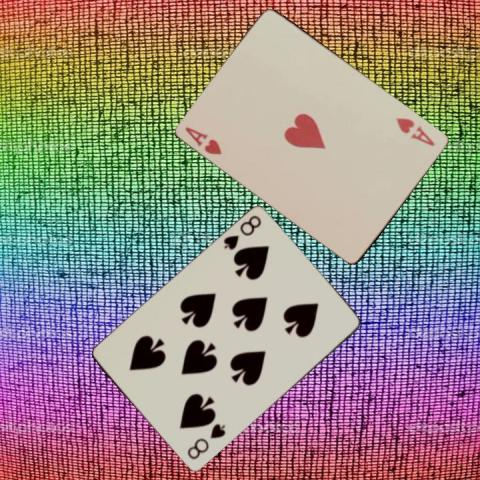8s: (184, 421, 227, 461), (221, 212, 262, 252)
Ah: (393, 114, 437, 148), (182, 123, 224, 157)
